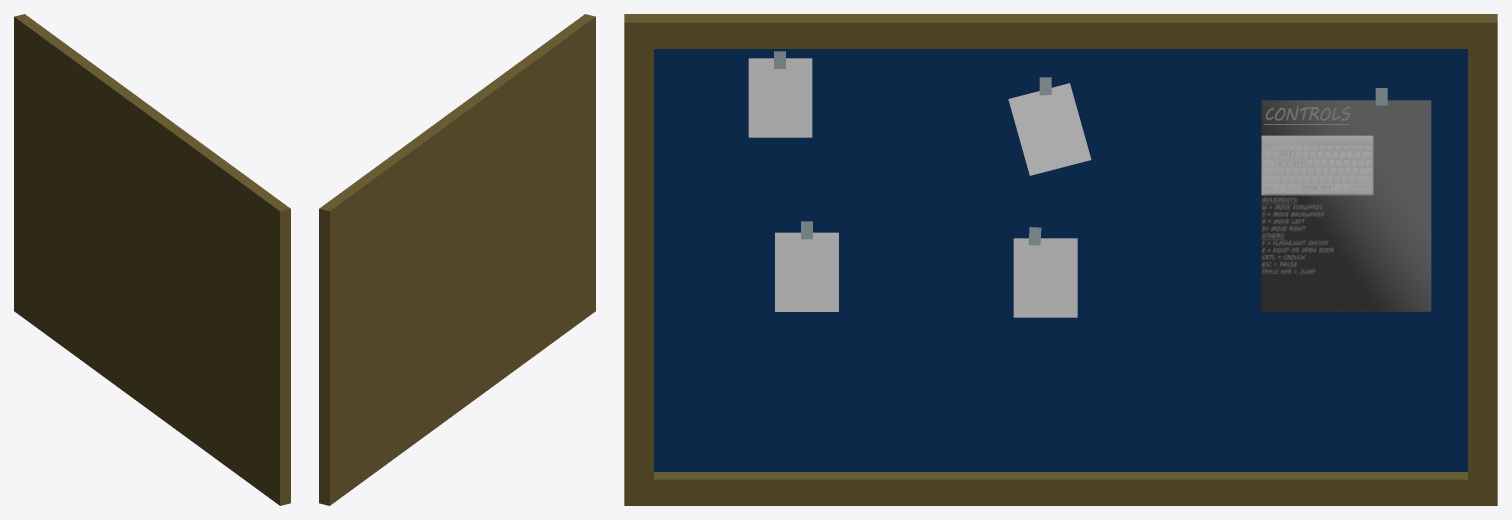
File: board with control.fbx
3 views of the same model, side by side, from view 1: azimuth 30°, elevation 25°; view 2: azimuth 150°, elevation 25°; view 3: azimuth 270°, elevation 25° (orthographic). The views are drawn at different scales.
Parts seen in each view (by area): view 1: polySurface1268; view 2: polySurface1268; view 3: polySurface1268, polySurface1272, polySurface1276, polySurface1270, polySurface1269, polySurface1271.
Boxes of the visible parts, x1,y1,x2,y2 form: polySurface1268: (14, 14, 290, 505); polySurface1268: (319, 14, 595, 505); polySurface1268: (624, 14, 1497, 505); polySurface1272: (1261, 100, 1431, 311); polySurface1276: (1013, 238, 1077, 317); polySurface1270: (1008, 83, 1091, 175); polySurface1269: (748, 58, 812, 137); polySurface1271: (775, 232, 838, 311).
Size of the model in its own units: 110 by 2871 by 4700.
